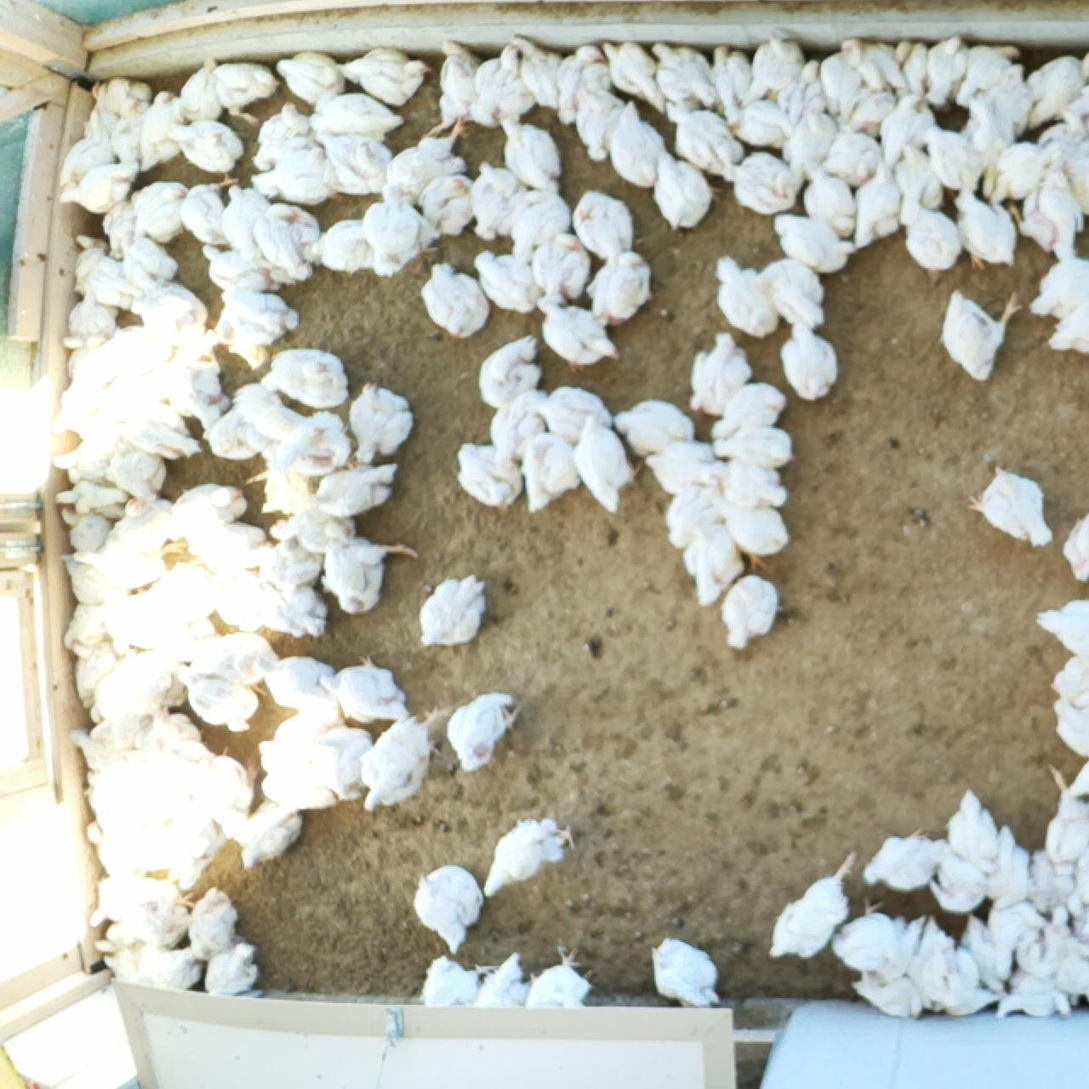chicken: (767, 850, 857, 958), (359, 704, 447, 810), (894, 913, 982, 1016), (380, 117, 468, 208), (940, 289, 1023, 381), (1006, 168, 1084, 263), (322, 538, 418, 615), (968, 463, 1053, 548), (483, 818, 574, 897), (217, 288, 301, 370), (574, 417, 641, 515), (413, 864, 482, 954), (317, 656, 408, 723), (536, 295, 617, 370), (363, 202, 442, 277), (334, 47, 430, 108), (666, 103, 742, 180), (187, 632, 277, 697), (234, 653, 338, 709), (174, 663, 258, 732), (446, 691, 518, 771), (253, 201, 320, 285), (419, 262, 489, 342), (262, 756, 361, 812), (314, 129, 394, 198), (89, 875, 193, 928), (652, 152, 721, 231), (830, 897, 901, 972), (687, 332, 751, 415), (716, 502, 791, 572), (470, 46, 534, 128), (105, 591, 191, 652), (524, 385, 611, 445), (683, 523, 744, 608), (774, 211, 855, 275), (608, 101, 668, 187), (263, 350, 349, 410), (208, 568, 285, 635), (714, 256, 778, 336), (1025, 50, 1089, 130), (721, 574, 788, 650), (430, 39, 483, 135), (954, 189, 1016, 271), (348, 383, 412, 462), (121, 396, 200, 460), (254, 102, 325, 173), (861, 830, 945, 890), (167, 120, 242, 187), (275, 411, 351, 477), (251, 145, 333, 206), (419, 574, 488, 646), (88, 659, 168, 721), (520, 431, 581, 512), (650, 938, 720, 1008), (945, 788, 1000, 877), (455, 442, 522, 515), (83, 818, 162, 879), (575, 64, 624, 162), (587, 251, 651, 326), (142, 821, 217, 885), (120, 282, 208, 336), (206, 748, 257, 841), (613, 400, 693, 459), (778, 322, 839, 399), (311, 724, 372, 801), (73, 543, 165, 594), (784, 94, 838, 180), (311, 92, 402, 143), (652, 43, 718, 113), (499, 115, 559, 192), (721, 151, 795, 213), (984, 140, 1051, 208), (162, 362, 229, 430), (602, 43, 666, 114), (573, 189, 632, 266), (307, 465, 396, 516), (477, 336, 540, 408), (470, 159, 526, 240), (107, 496, 180, 558), (184, 753, 245, 827), (57, 112, 118, 185), (761, 258, 824, 328), (185, 886, 243, 961), (73, 234, 131, 309), (1023, 849, 1078, 928), (645, 438, 721, 495), (850, 965, 928, 1020), (524, 944, 592, 1007), (801, 157, 855, 236), (233, 383, 305, 442), (843, 38, 911, 100), (1046, 764, 1089, 862), (957, 913, 1009, 994), (991, 895, 1047, 969), (852, 162, 899, 250), (996, 970, 1074, 1023), (202, 246, 288, 294), (54, 387, 125, 445), (59, 163, 138, 215), (149, 609, 221, 666), (64, 721, 140, 775), (1014, 921, 1078, 985), (475, 251, 539, 315), (237, 804, 300, 869), (181, 522, 268, 569), (510, 188, 571, 255), (821, 123, 881, 191), (881, 94, 936, 168), (749, 30, 807, 100), (301, 218, 372, 275), (510, 37, 566, 109), (138, 91, 188, 171), (955, 43, 1019, 105), (129, 180, 190, 245), (719, 381, 785, 441), (220, 183, 272, 259), (903, 206, 957, 279), (214, 61, 277, 123), (923, 125, 982, 191), (100, 325, 172, 379), (258, 722, 334, 773), (105, 905, 191, 950), (269, 512, 356, 556), (978, 64, 1028, 140), (147, 567, 220, 619), (533, 234, 587, 304), (61, 555, 133, 607), (984, 824, 1028, 909), (247, 465, 320, 516), (1029, 257, 1089, 319), (931, 841, 984, 911), (558, 46, 603, 127), (136, 938, 207, 989), (259, 540, 322, 596), (664, 485, 719, 549), (418, 174, 473, 238), (1039, 111, 1086, 184), (83, 777, 153, 826), (489, 390, 545, 451), (727, 100, 791, 153), (261, 583, 325, 636), (103, 379, 167, 432), (119, 237, 179, 293), (277, 53, 344, 103), (63, 287, 117, 349), (925, 35, 969, 111), (134, 714, 202, 763), (162, 324, 222, 379), (420, 955, 482, 1008), (175, 482, 248, 527), (724, 458, 788, 509), (716, 427, 791, 470), (140, 665, 188, 732), (105, 449, 168, 500), (896, 145, 942, 214), (54, 439, 123, 485), (54, 478, 129, 520), (478, 952, 533, 1009), (180, 182, 228, 247), (820, 46, 861, 122), (962, 99, 1014, 158), (103, 944, 168, 991), (1035, 598, 1089, 654), (778, 63, 826, 126), (202, 943, 259, 996), (271, 709, 340, 752), (838, 88, 895, 140), (71, 642, 117, 705), (101, 200, 150, 259), (180, 58, 224, 123), (64, 604, 117, 656), (115, 99, 157, 164), (65, 338, 123, 385), (710, 44, 751, 108), (89, 77, 151, 119), (896, 40, 932, 109), (1047, 302, 1089, 357), (60, 510, 111, 555), (1048, 655, 1089, 708), (1056, 932, 1089, 992), (1054, 700, 1089, 756), (1061, 513, 1089, 580), (1066, 139, 1089, 214), (1066, 852, 1089, 921), (1063, 84, 1089, 140), (1073, 758, 1089, 800)
